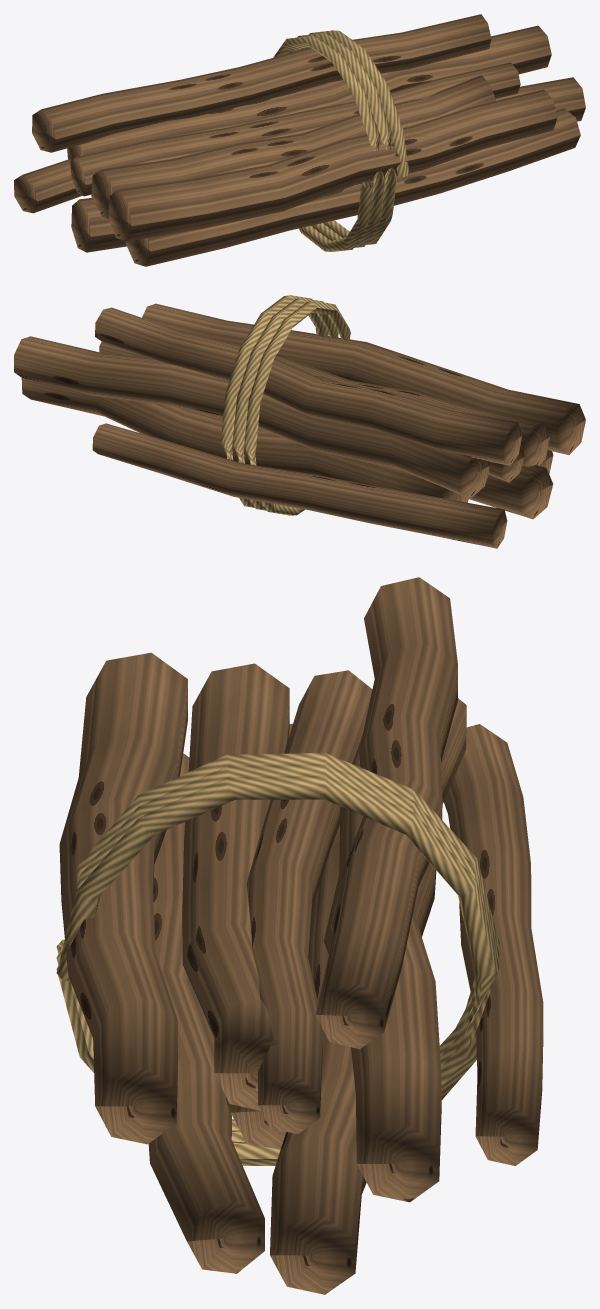
File: lenha.gltf
The picture shows the model from 3 angles, top to bottom: view 1: azimuth 30°, elevation 25°; view 2: azimuth 150°, elevation 25°; view 3: azimuth 270°, elevation 25°; orthographic projection. The views are drawn at different scales.
Visible parts, largest first — view 1: Graveto7, Graveto8, Graveto3, Graveto6, Graveto4, Amarra, Graveto5, Graveto0, Graveto2, Graveto1; view 2: Graveto4, Graveto8, Graveto0, Graveto7, Graveto1, Amarra, Graveto6, Graveto2, Graveto5; view 3: Graveto7, Graveto8, Amarra, Graveto6, Graveto5, Graveto0, Graveto3, Graveto4, Graveto1, Graveto2.
Boxes of the visible parts, <box> form: Graveto7: <box>108,89,557,241</box>; Graveto8: <box>32,14,491,152</box>; Graveto3: <box>125,108,580,266</box>; Graveto6: <box>91,75,496,218</box>; Graveto4: <box>67,25,551,165</box>; Amarra: <box>273,30,409,251</box>; Graveto5: <box>70,62,520,196</box>; Graveto0: <box>14,159,82,213</box>; Graveto2: <box>71,198,126,252</box>; Graveto1: <box>496,77,585,121</box>; Graveto4: <box>14,336,489,498</box>; Graveto8: <box>95,307,522,465</box>; Graveto0: <box>92,423,507,548</box>; Graveto7: <box>142,303,585,454</box>; Graveto1: <box>21,378,468,502</box>; Amarra: <box>221,295,350,515</box>; Graveto6: <box>275,355,549,466</box>; Graveto2: <box>469,465,553,519</box>; Graveto5: <box>99,341,524,482</box>; Graveto7: <box>59,652,187,1144</box>; Graveto8: <box>315,577,457,1049</box>; Amarra: <box>56,753,499,1165</box>; Graveto6: <box>182,663,289,1110</box>; Graveto5: <box>247,670,372,1133</box>; Graveto0: <box>444,724,543,1165</box>; Graveto3: <box>148,753,264,1273</box>; Graveto4: <box>323,698,466,1202</box>; Graveto1: <box>270,825,366,1294</box>; Graveto2: <box>225,723,292,1149</box>.
Bounding box in the file's own units: 0.7286 × 0.2687 × 0.3019.
Materials: 2 (2 with a texture image).
